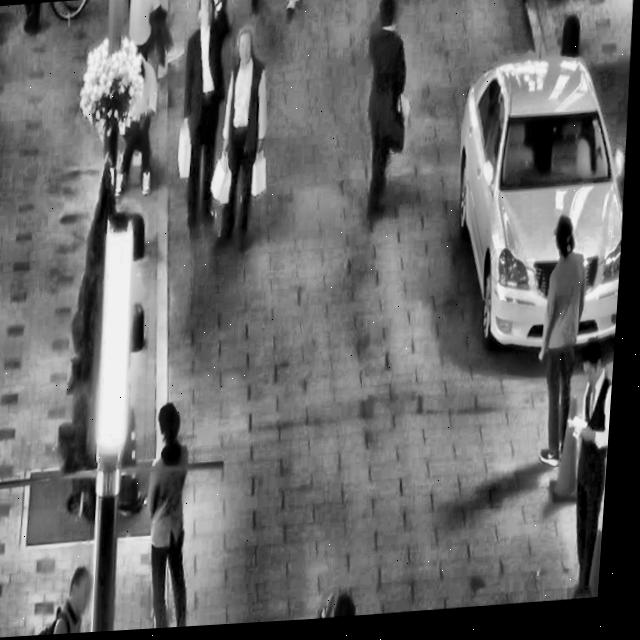light_vehicle: (443, 38, 636, 369)
